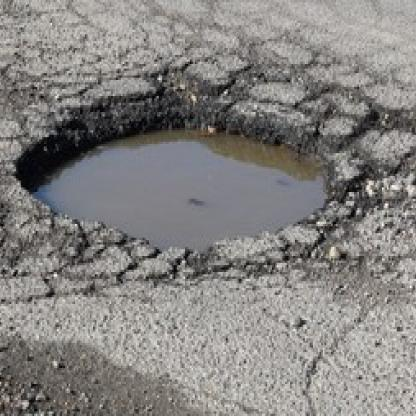pothole: (12, 85, 348, 257)
